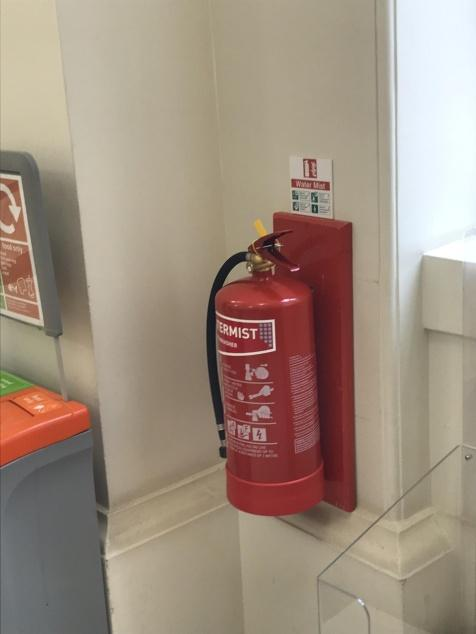APAR: (213, 227, 326, 517)
